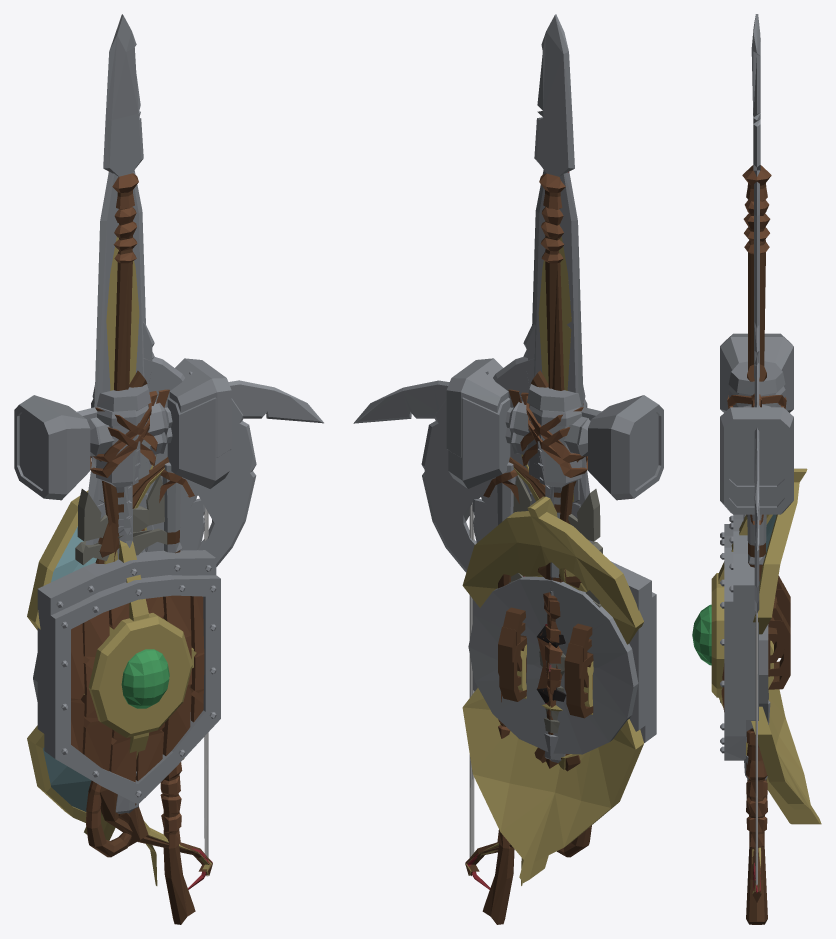
File: weapons.glb
The picture shows the model from 3 angles, left to right: view 1: azimuth 30°, elevation 25°; view 2: azimuth 150°, elevation 25°; view 3: azimuth 270°, elevation 25°; orthographic projection. The views are drawn at different scales.
Parts seen in each view (by area): view 1: Shield_Heater_2, Shield_Celtic_Golden, Hammer_Double, Axe_Double, Spear, Hammer_Small, Shield_Heater, Sword_Big, Scythe, Claymore, Bow_Wooden2, Sword_Golden (+4 smaller); view 2: Shield_Celtic_Golden, Hammer_Double, Shield_Round, Shield_Round_2, Spear, Hammer_Small, Axe_Double, Sword_Big, Scythe, Shield_Heater, Sword_Golden, Claymore (+8 smaller); view 3: Hammer_Double, Shield_Celtic_Golden, Shield_Heater, Axe_Double, Spear, Shield_Heater_2, Hammer_Small, Shield_Round, Shield_Round_2, Sword_Big, Bow_Wooden2, Scythe (+2 smaller).
Part boxes in pixels (box(x1,y1,x2,y2)): Shield_Heater_2: box(44, 575, 220, 804); Shield_Celtic_Golden: box(27, 490, 196, 840); Hammer_Double: box(14, 358, 231, 813); Axe_Double: box(88, 371, 256, 924); Spear: box(103, 14, 148, 846); Hammer_Small: box(90, 397, 229, 534); Shield_Heater: box(37, 550, 216, 775); Sword_Big: box(75, 170, 167, 564); Scythe: box(75, 370, 323, 857); Claymore: box(77, 171, 164, 541); Bow_Wooden2: box(98, 458, 212, 875); Sword_Golden: box(104, 237, 146, 530); Shield_Celtic_Golden: box(462, 496, 643, 882); Hammer_Double: box(446, 358, 663, 768); Shield_Round: box(468, 576, 638, 751); Shield_Round_2: box(468, 579, 633, 754); Spear: box(534, 14, 574, 390); Hammer_Small: box(448, 397, 587, 762); Axe_Double: box(421, 371, 589, 924); Sword_Big: box(530, 170, 602, 691); Scythe: box(353, 370, 602, 857); Shield_Heater: box(473, 561, 651, 731); Sword_Golden: box(508, 224, 601, 720); Claymore: box(513, 172, 600, 675); Hammer_Double: box(720, 333, 793, 780); Shield_Celtic_Golden: box(692, 468, 821, 824); Shield_Heater: box(729, 514, 783, 742); Axe_Double: box(746, 405, 767, 924); Spear: box(742, 14, 771, 814); Shield_Heater_2: box(720, 524, 770, 760); Hammer_Small: box(720, 386, 793, 724); Shield_Round: box(759, 597, 790, 721); Shield_Round_2: box(768, 583, 790, 722); Sword_Big: box(746, 170, 759, 516); Bow_Wooden2: box(752, 612, 761, 902); Scythe: box(747, 364, 766, 548).
Bounding box in the file's own units: 3.55 × 10.67 × 1.41.
